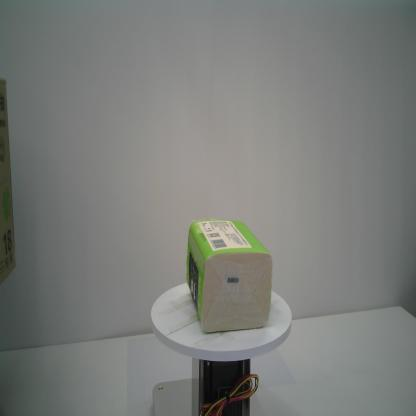Tissue: (184, 216, 274, 335)
